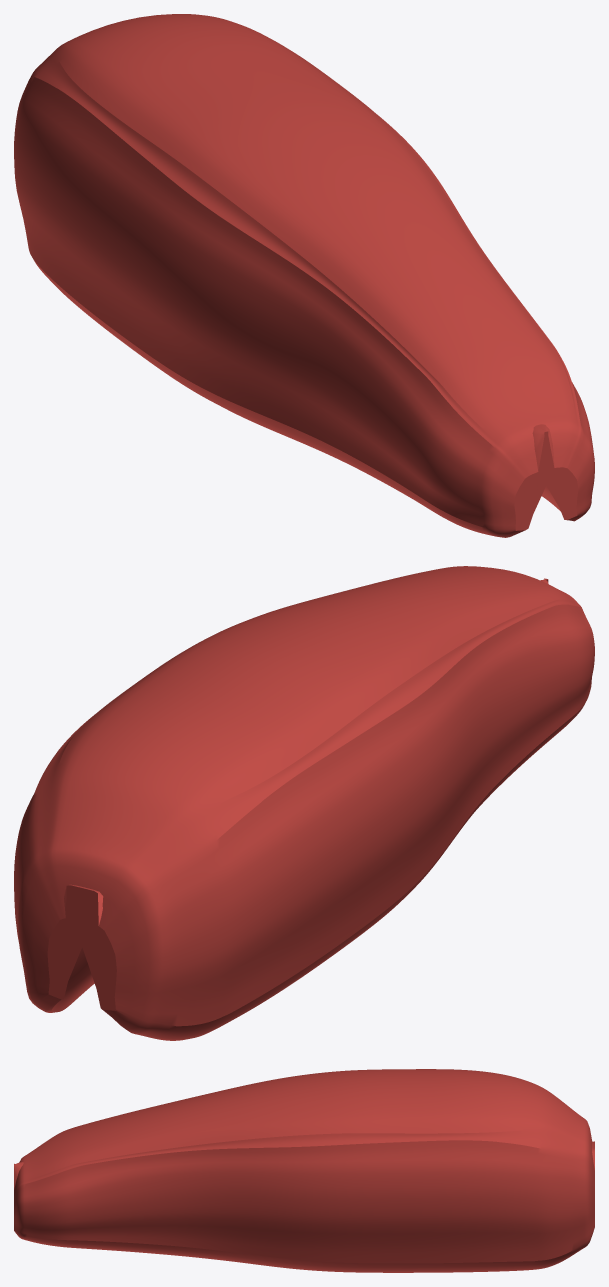
Rendered from cruiser_4.glb.
3 views of the same model, one above another, from view 1: azimuth 30°, elevation 25°; view 2: azimuth 150°, elevation 25°; view 3: azimuth 270°, elevation 25° (orthographic). The views are drawn at different scales.
Visible parts, largest first — view 1: lod0; view 2: lod0; view 3: lod0.
Part boxes in pixels (left/top/right/bottom): lod0: left=14, top=14, right=594, bottom=537; lod0: left=14, top=566, right=594, bottom=1040; lod0: left=14, top=1069, right=594, bottom=1272.
Size of what is drawn, in the model's own units: 0.3455 by 0.3314 by 1.06.
